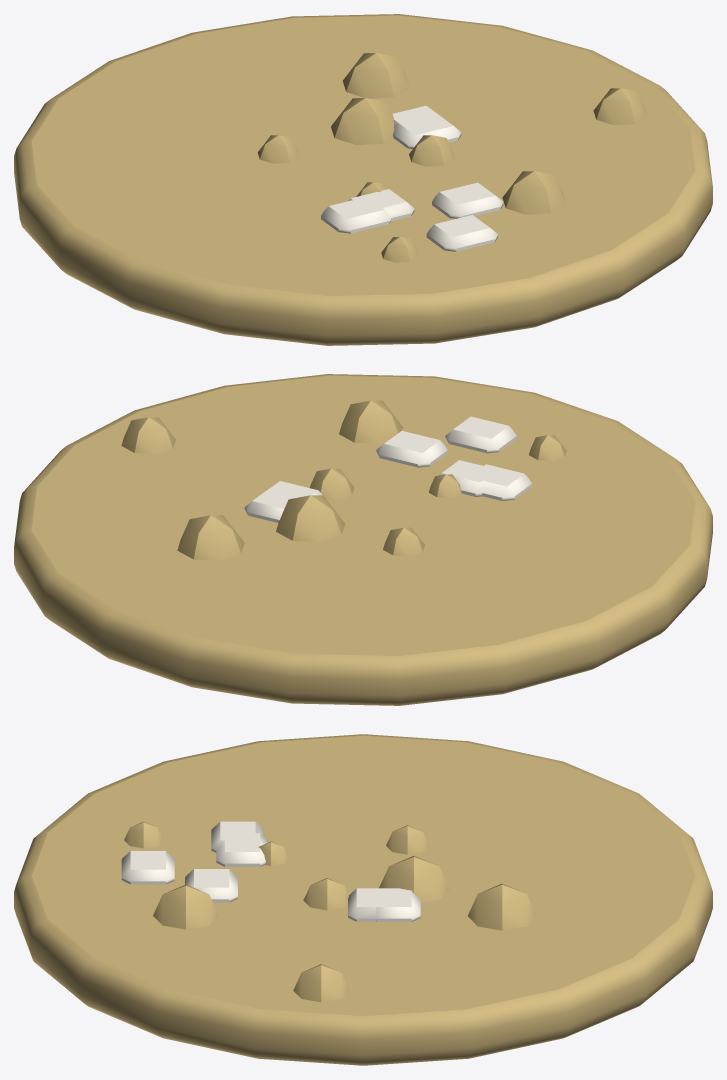
Rendered from kr_soup_onion.glb.
3 views of the same model, one above another, from view 1: azimuth 30°, elevation 25°; view 2: azimuth 150°, elevation 25°; view 3: azimuth 270°, elevation 25° (orthographic).
Parts seen in each view (by area): view 1: vc_m0_r2, vc_m0_r4; view 2: vc_m0_r2, vc_m0_r4; view 3: vc_m0_r2, vc_m0_r4.
Boxes of the visible parts, <box> form: vc_m0_r2: <box>14,14,712,345</box>; vc_m0_r4: <box>321,105,503,251</box>; vc_m0_r2: <box>14,374,712,705</box>; vc_m0_r4: <box>244,416,532,522</box>; vc_m0_r2: <box>14,734,712,1065</box>; vc_m0_r4: <box>121,821,420,921</box>.
Bounding box in the file's own units: 0.396 × 0.0502 × 0.396.
